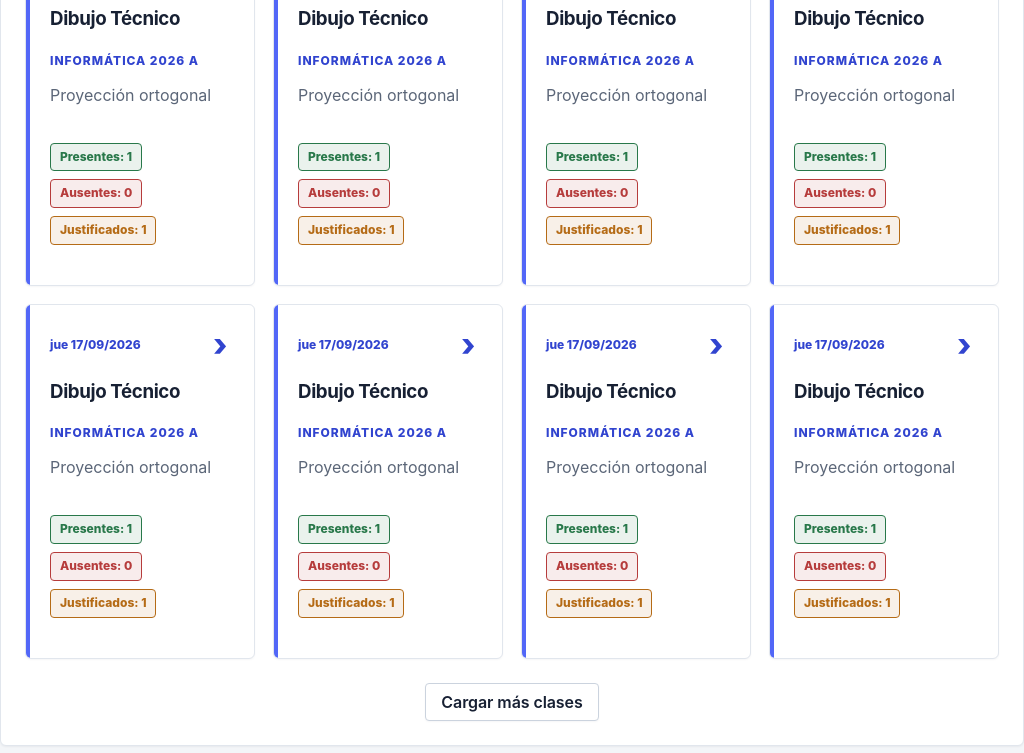
Test: Historial y detalle de clases › muestra 24 tarjetas y carga las restantes a pedido
(page scrolled)
Click the button "Cargar más clases": (512, 702) [425,683,599,721]
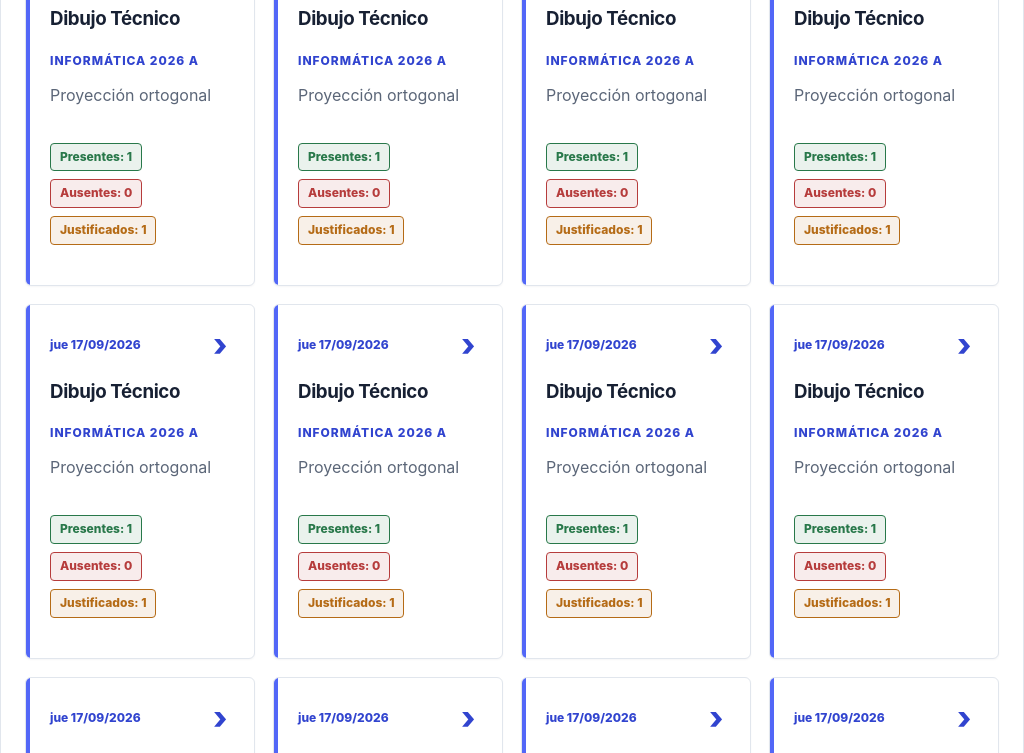
expect the button "Cargar más clases" is gone: met
